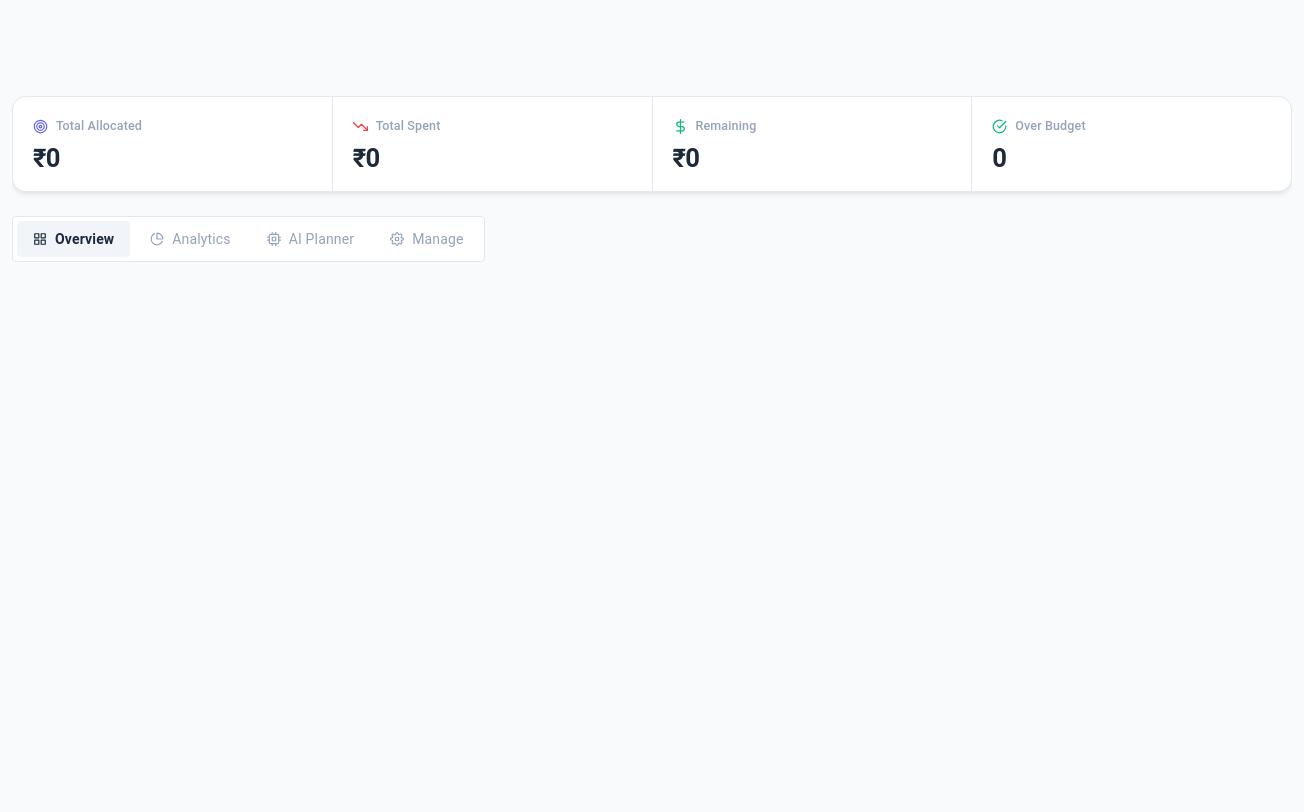
it: UserBudget › renders the empty states for overview, analytics and manage
Click the button "Analytics" at (190, 239), box x1=134 y1=221 x2=247 y2=257
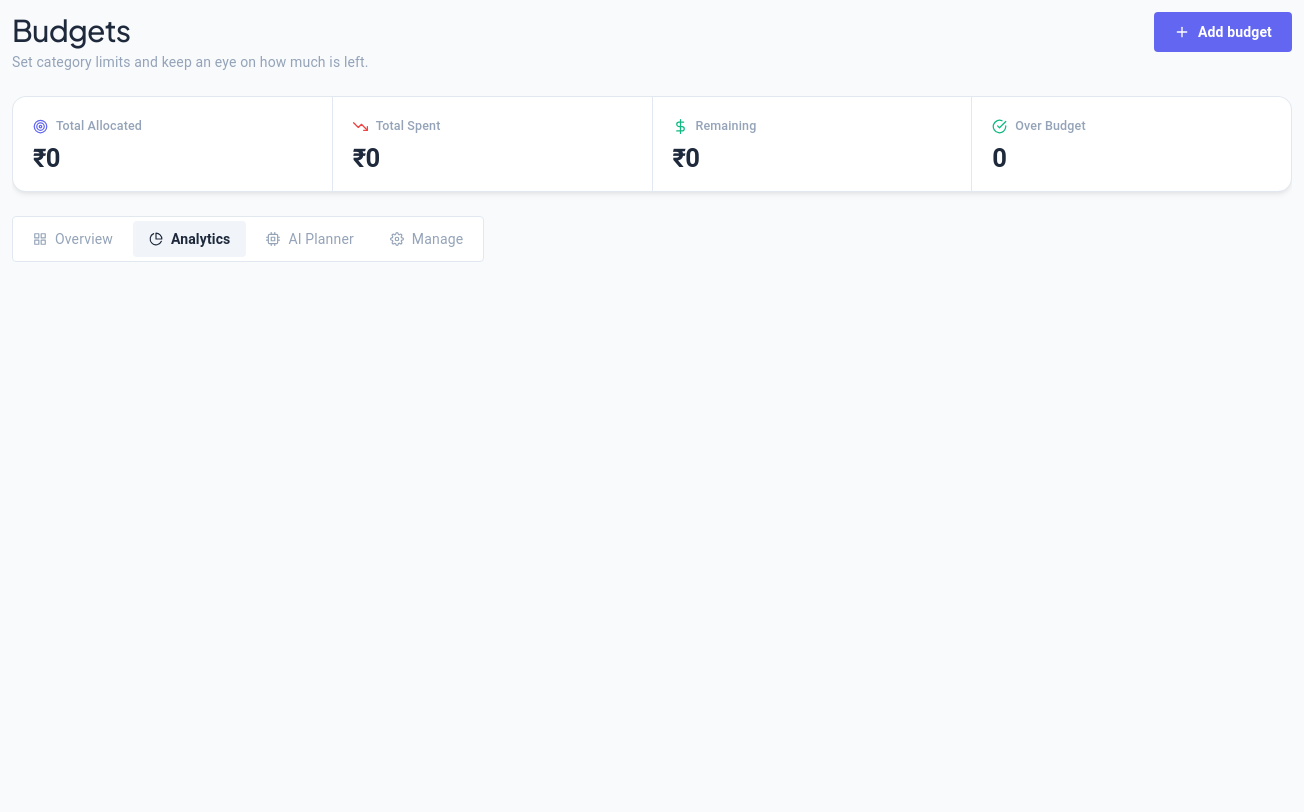
Click the button "Manage" at (427, 239), box x1=374 y1=221 x2=479 y2=257
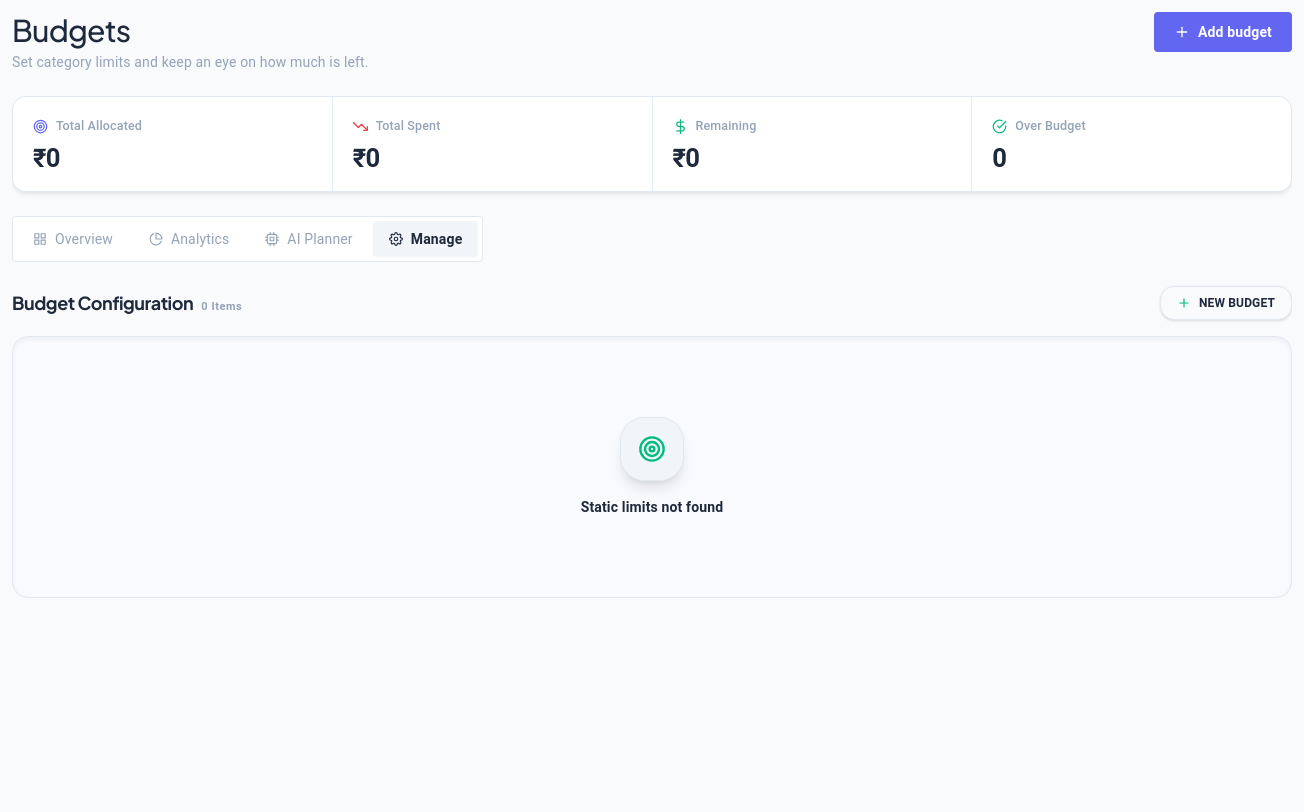
Check: the text "Static limits not found" is shown, box x1=581 y1=497 x2=723 y2=517
Check: the text "0 Items" is shown, box x1=201 y1=299 x2=242 y2=316
